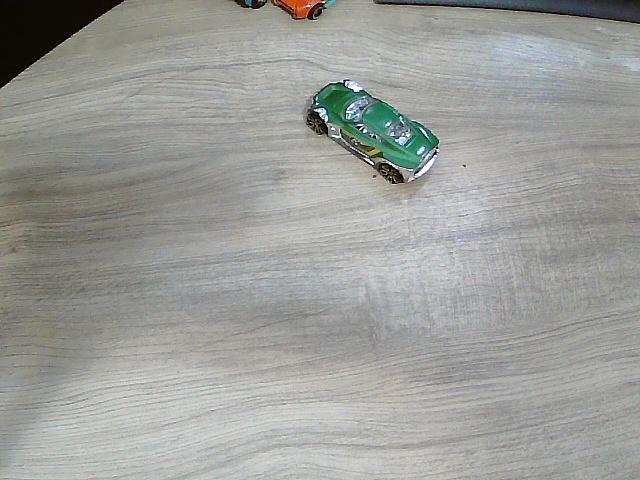Carro: (305, 80, 439, 184), (233, 0, 341, 21)
